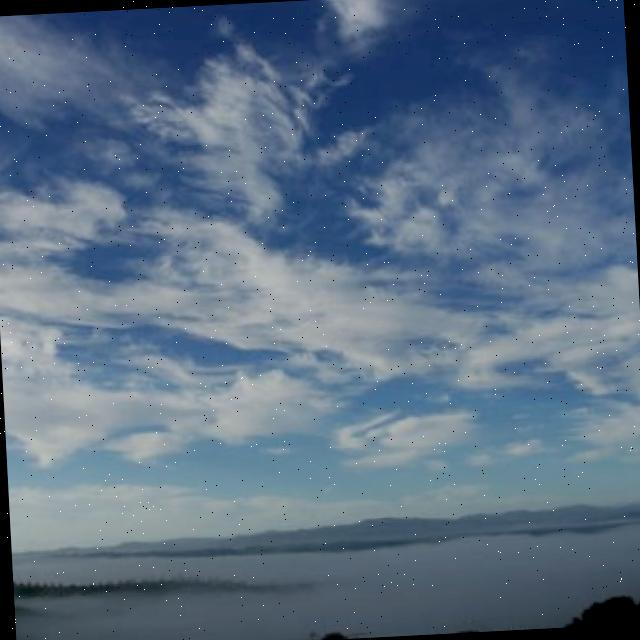Ci: (1, 34, 640, 444)
